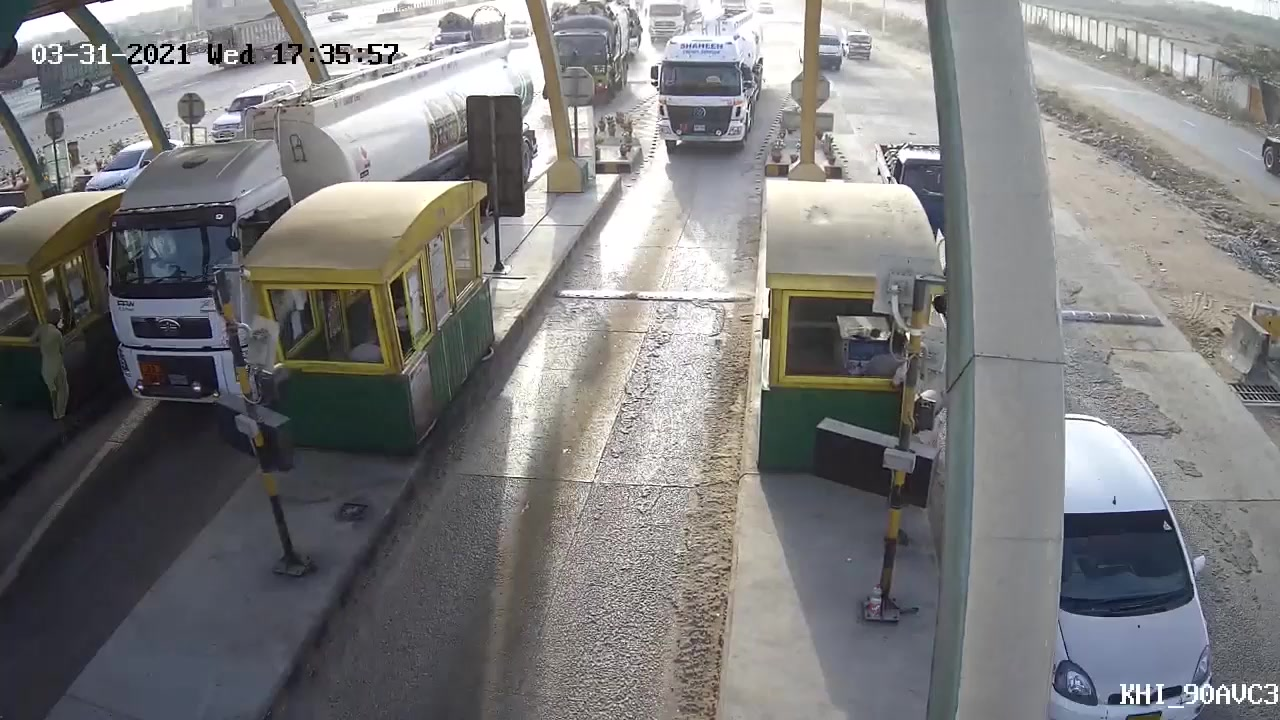F6: (626, 27, 769, 164)
